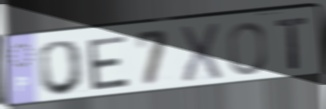7: (134, 27, 174, 89)
E: (85, 33, 132, 93)
O: (37, 38, 87, 98), (226, 20, 269, 78)
T: (274, 15, 311, 72)
X: (177, 21, 224, 86)
